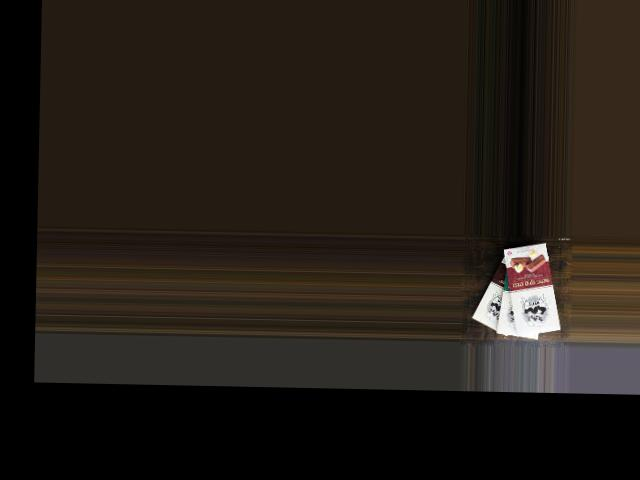chocolate: (470, 242, 532, 339)
